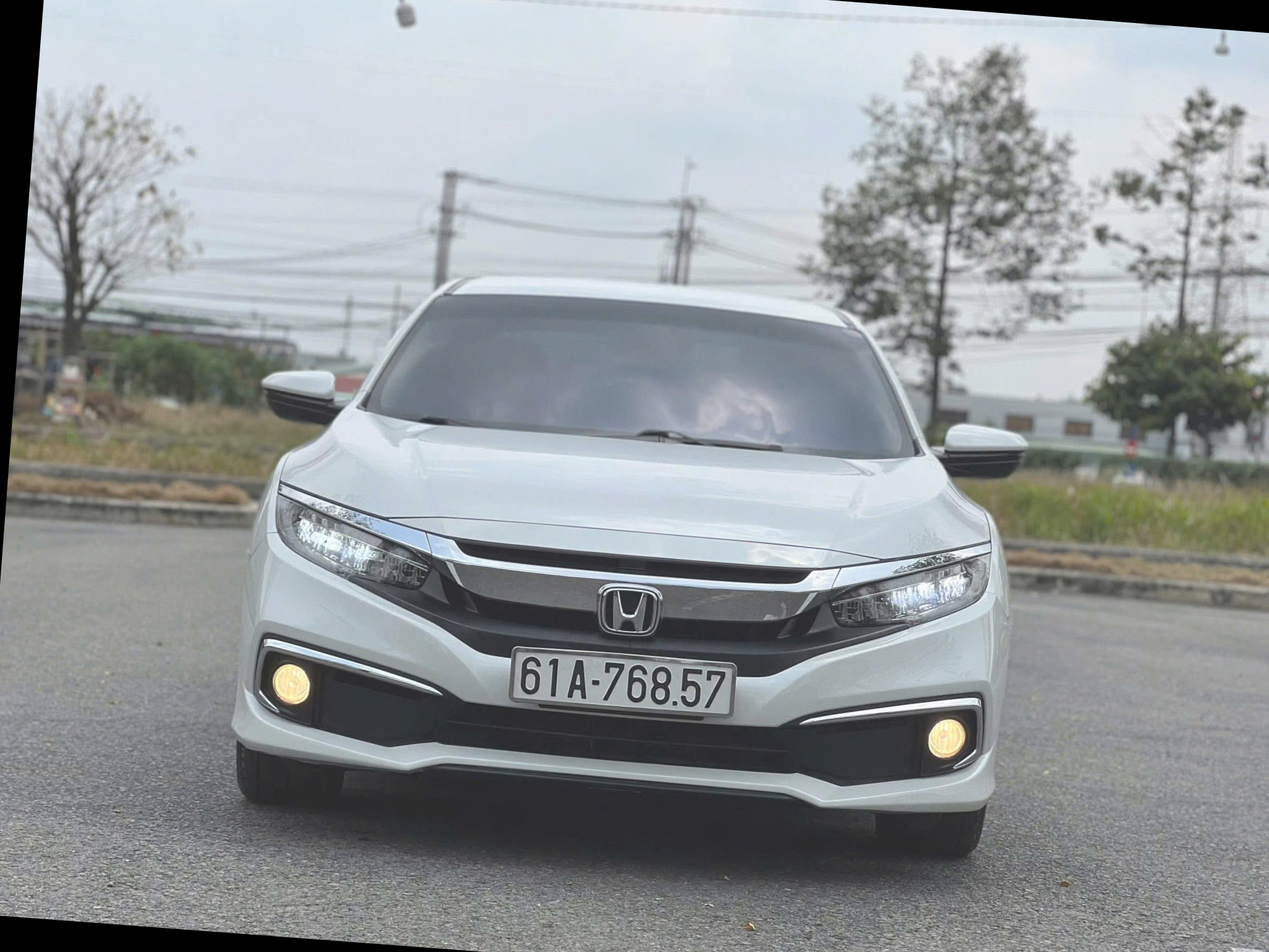Bien-so: (510, 643, 742, 724)
